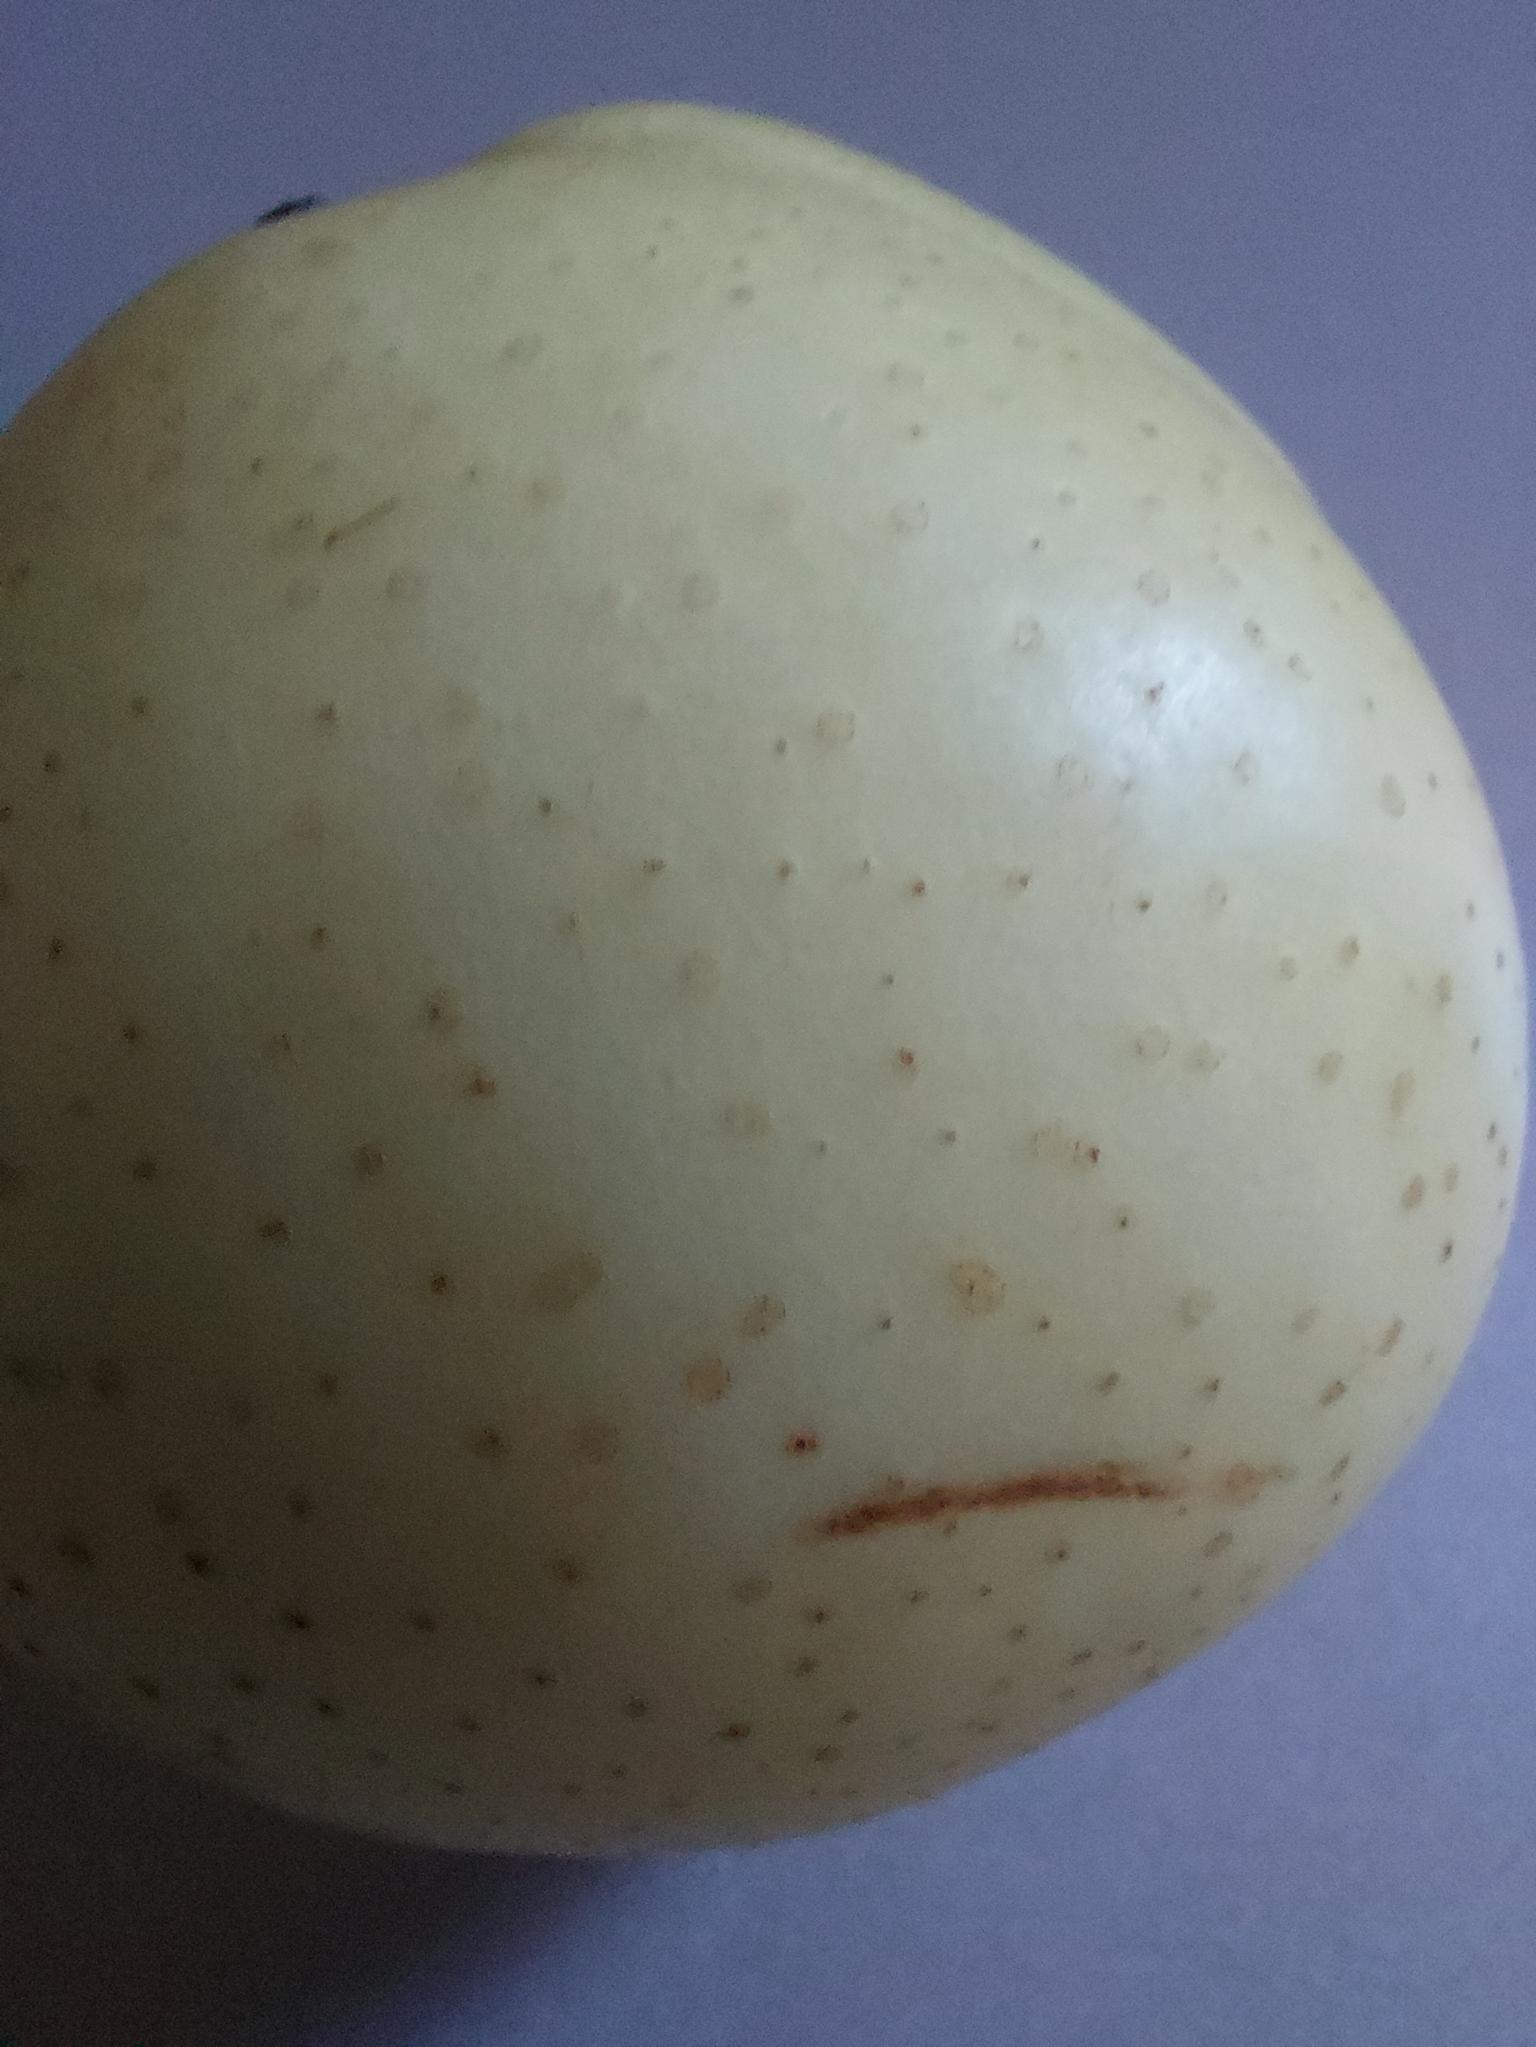Good Pear: (0, 92, 1504, 1870)
